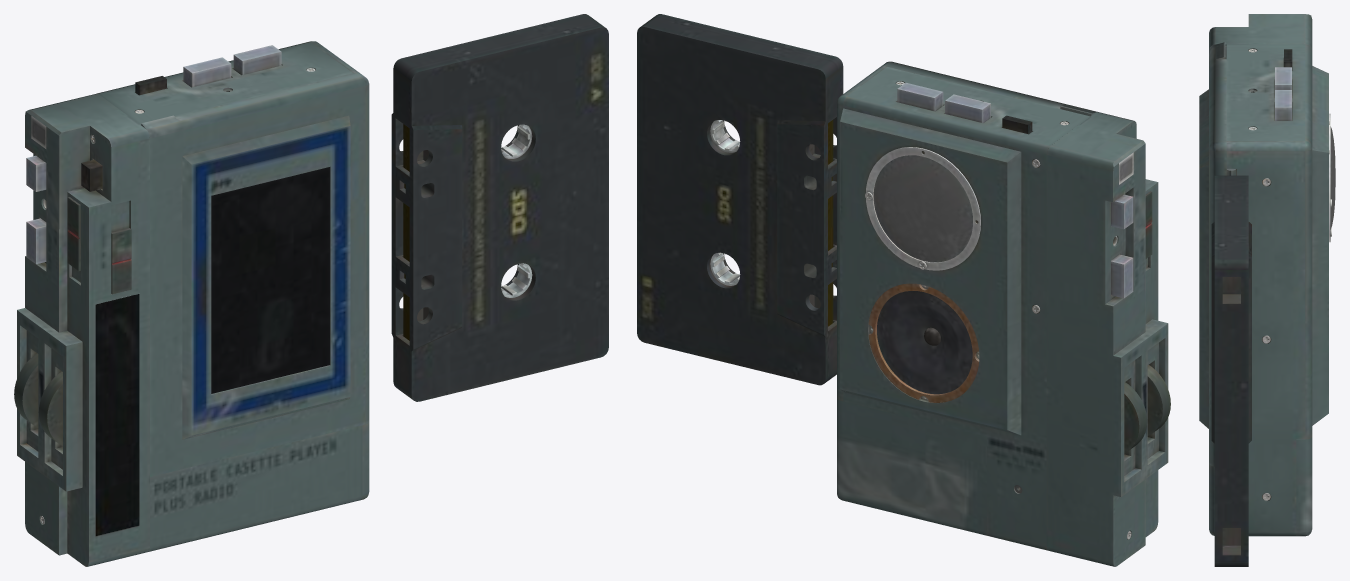
The model's file is portable_cassette_player.glb.
3 renders of one model, left to right at view 1: azimuth 30°, elevation 25°; view 2: azimuth 150°, elevation 25°; view 3: azimuth 270°, elevation 25°, orthographic. The views are drawn at different scales.
Visible parts, largest first — view 1: Cylinder.015, Plane.097, Cube.017; view 2: Cylinder.015, Cube.017, Plane.097; view 3: Cylinder.015, Cube.017, Plane.097.
Boxes of the visible parts, x1=… form: Cylinder.015: x1=14, y1=41, x2=369, y2=566; Plane.097: x1=141, y1=72, x2=369, y2=476; Cube.017: x1=391, y1=14, x2=608, y2=401; Cylinder.015: x1=837, y1=66, x2=1170, y2=566; Cube.017: x1=637, y1=14, x2=843, y2=385; Plane.097: x1=881, y1=61, x2=1097, y2=116; Cylinder.015: x1=1209, y1=14, x2=1335, y2=536; Cube.017: x1=1211, y1=175, x2=1251, y2=566; Plane.097: x1=1199, y1=42, x2=1235, y2=466.
Size of the model in its own units: 0.1723 by 0.1303 by 0.0397.
2 materials, 2 textured.
